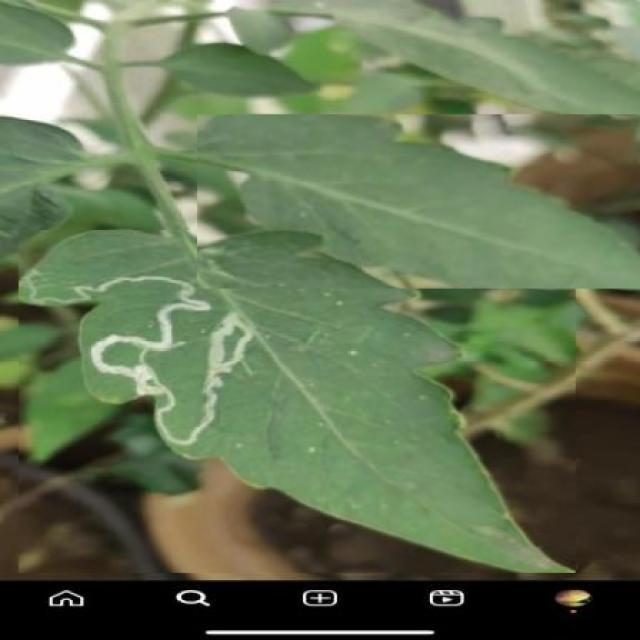Healthy: (197, 115, 640, 288)
Leaf Miner: (18, 230, 576, 573)
